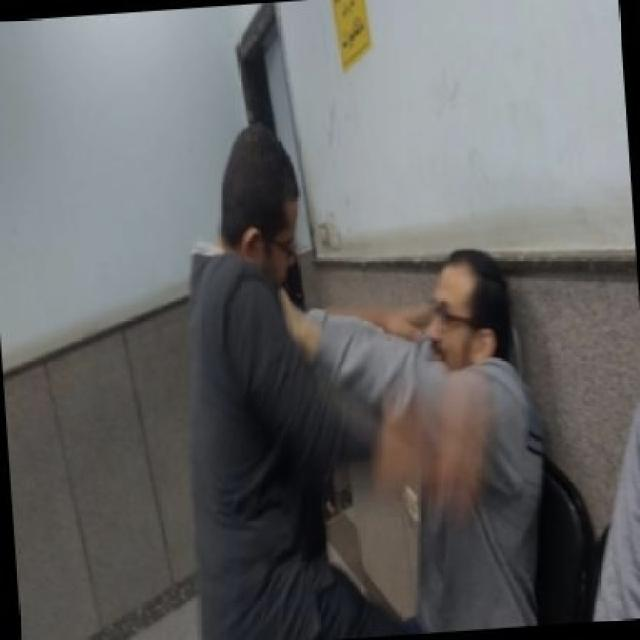fight: (174, 120, 556, 638)
